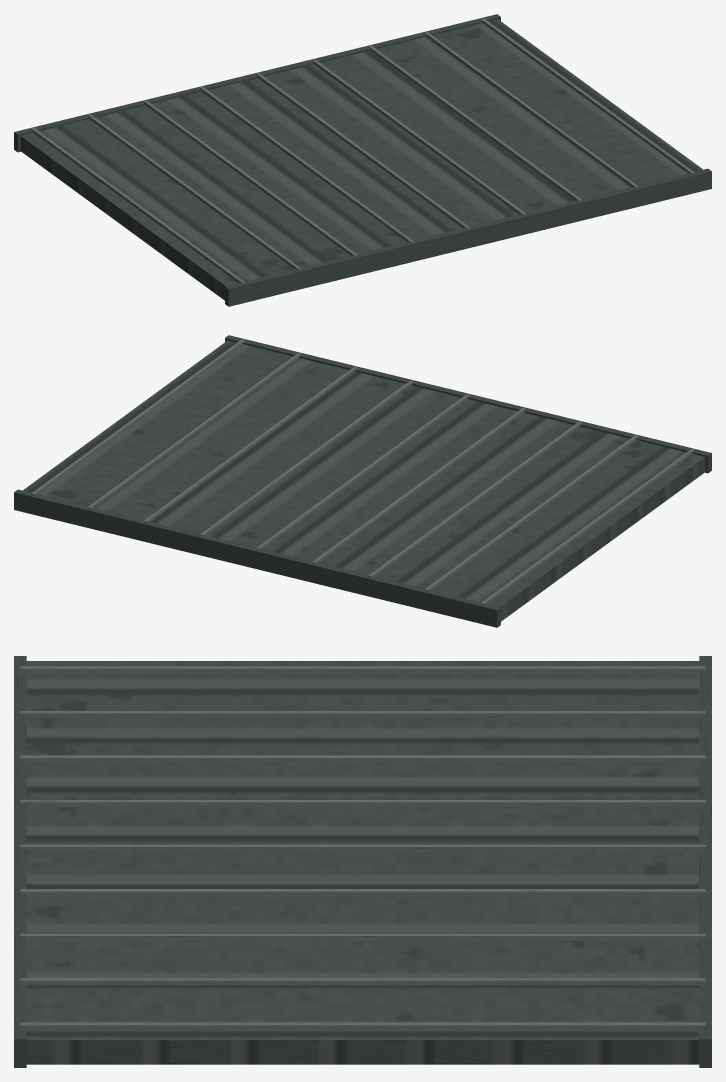
File: CabinRoof.fbx
3 renders of one model, top to bottom at view 1: azimuth 30°, elevation 25°; view 2: azimuth 150°, elevation 25°; view 3: azimuth 270°, elevation 25°, orthographic. The views are drawn at different scales.
Visible parts, largest first — view 1: CabinRoof; view 2: CabinRoof; view 3: CabinRoof.
Part boxes in pixels (bbox=[...]): CabinRoof: bbox=[14, 14, 711, 306]; CabinRoof: bbox=[14, 335, 711, 627]; CabinRoof: bbox=[14, 656, 711, 1067].
Bounding box in the file's own units: 860 × 32 × 662.
